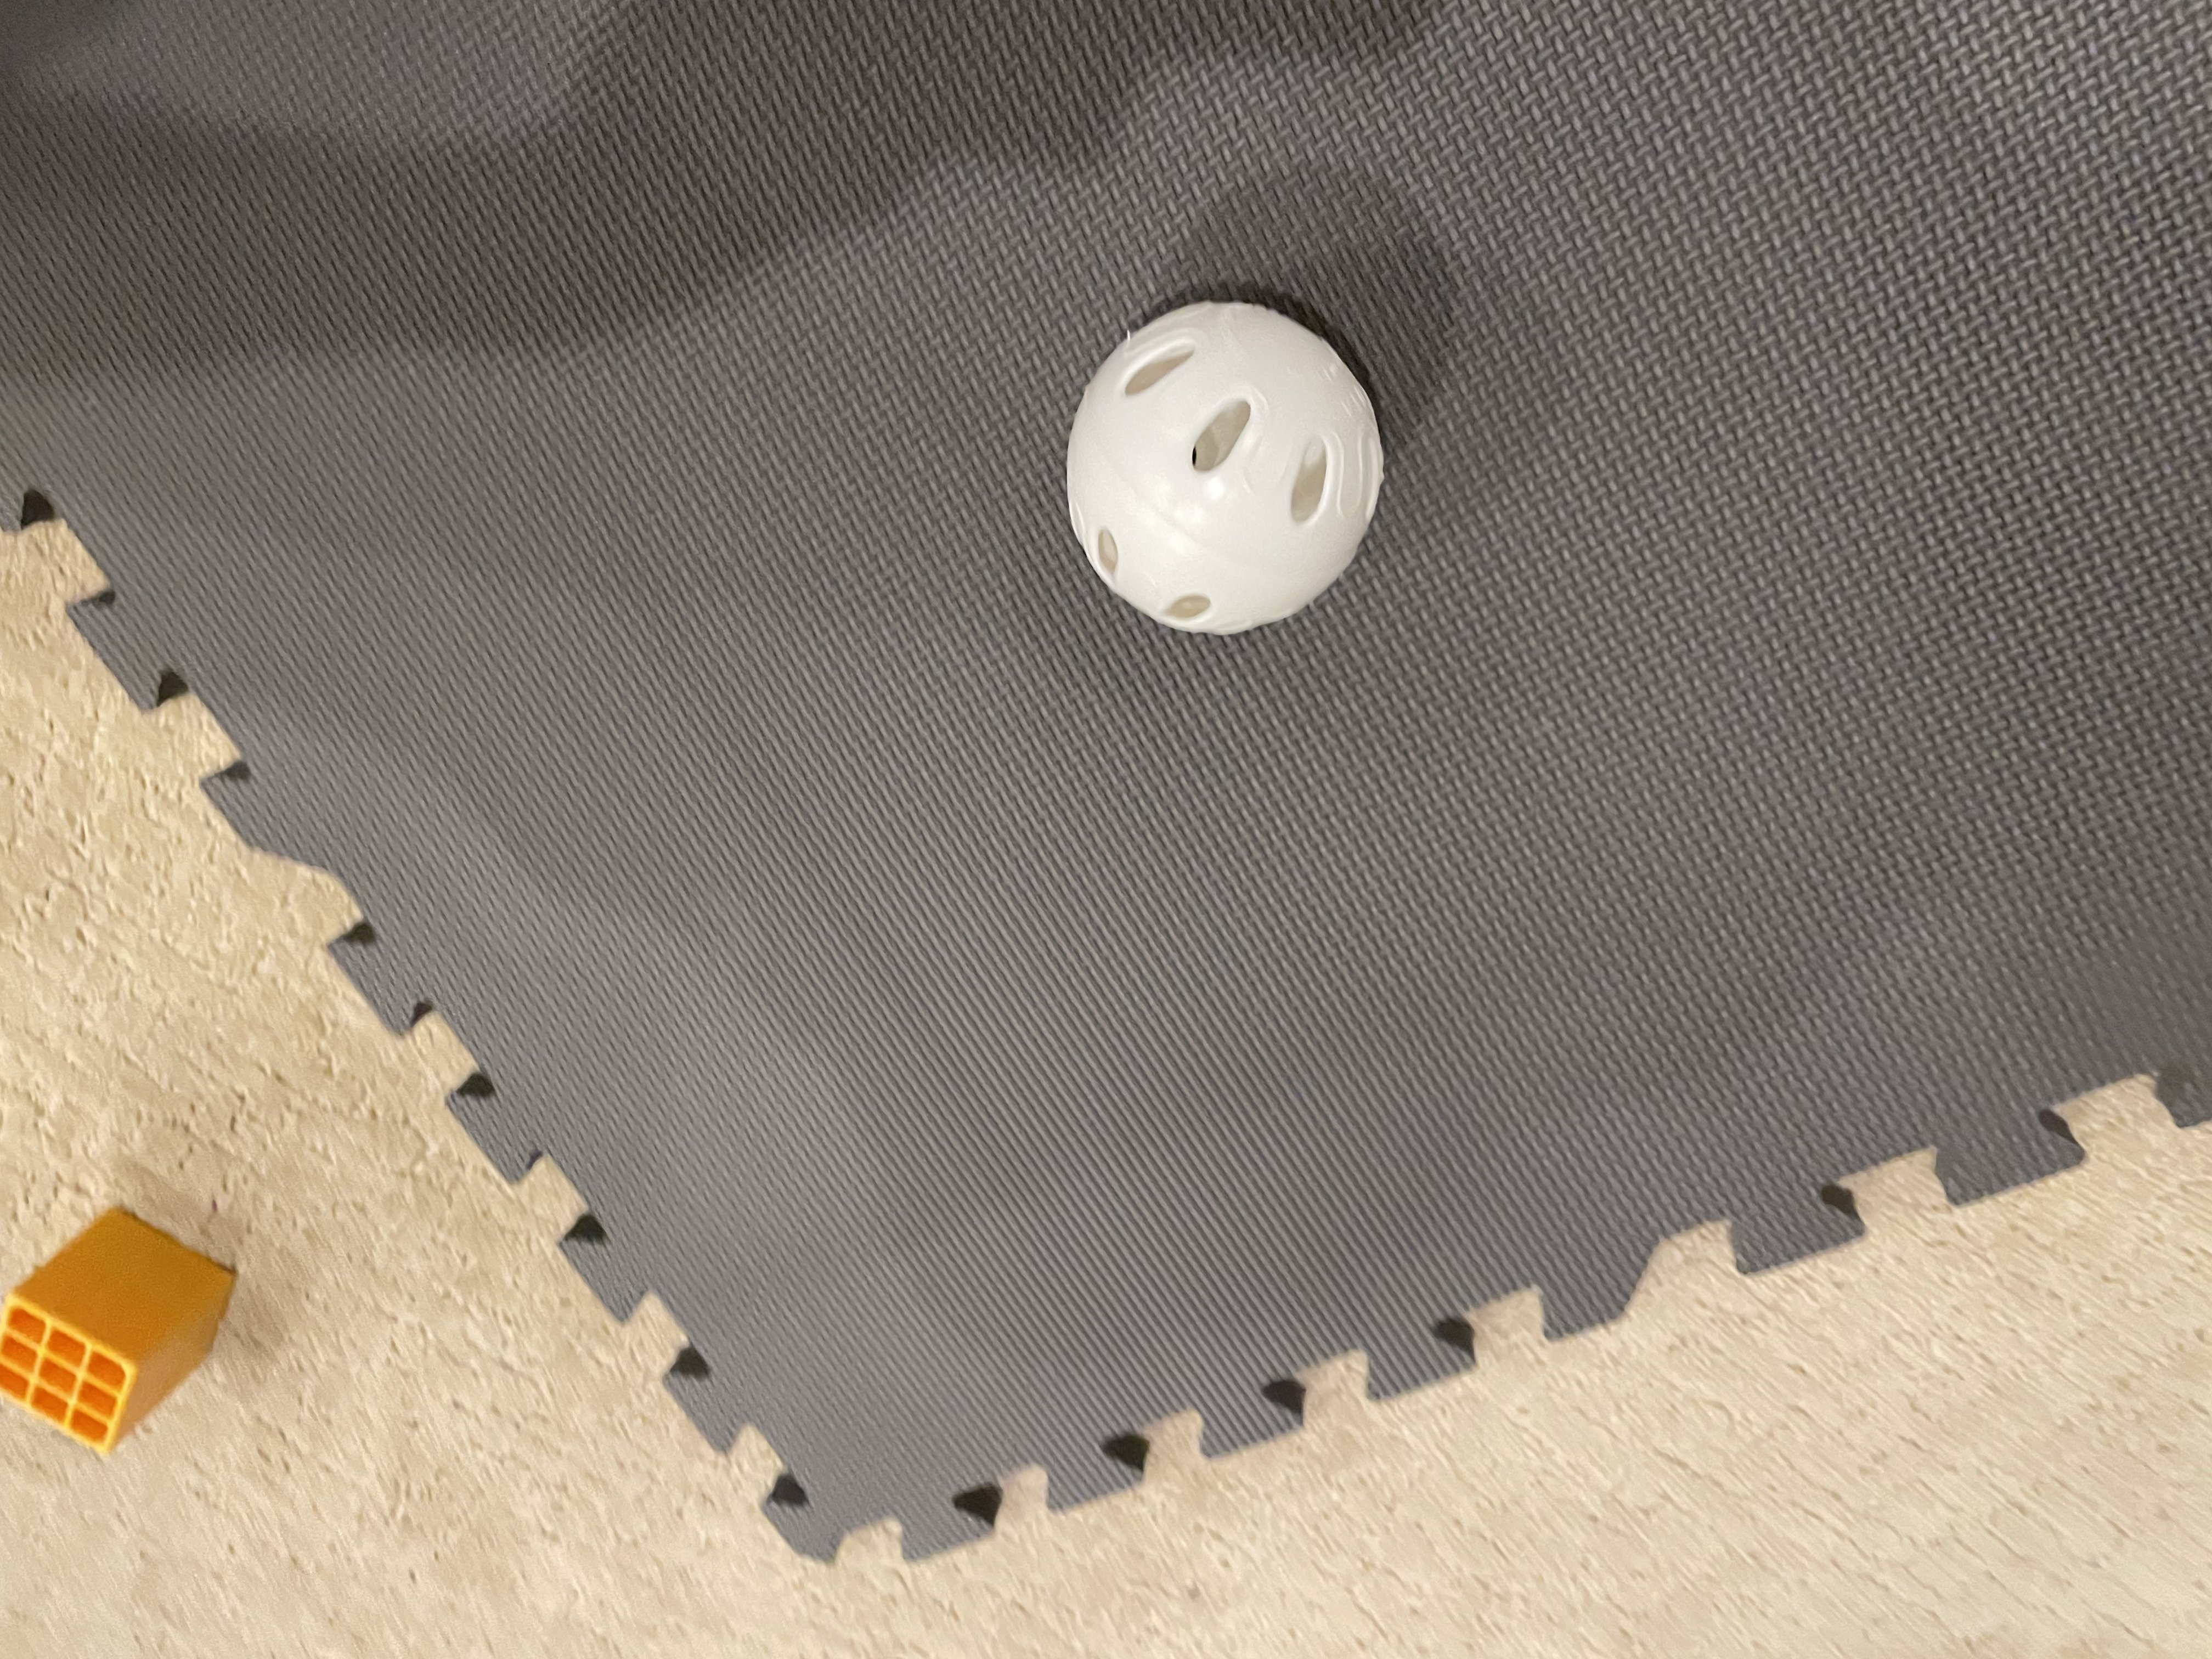ball: (1022, 242, 1444, 664)
